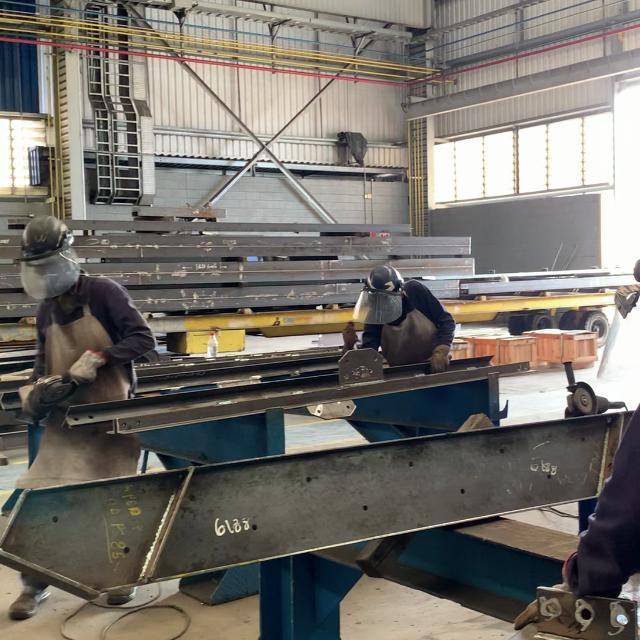face-shield: (16, 259, 80, 298), (353, 294, 404, 328)
glove: (68, 348, 106, 384), (426, 346, 452, 375)
helmet: (21, 216, 72, 252), (362, 266, 402, 292)
person: (21, 211, 158, 396), (352, 268, 458, 377)
safety-shoe: (8, 586, 54, 624), (106, 591, 133, 607)
